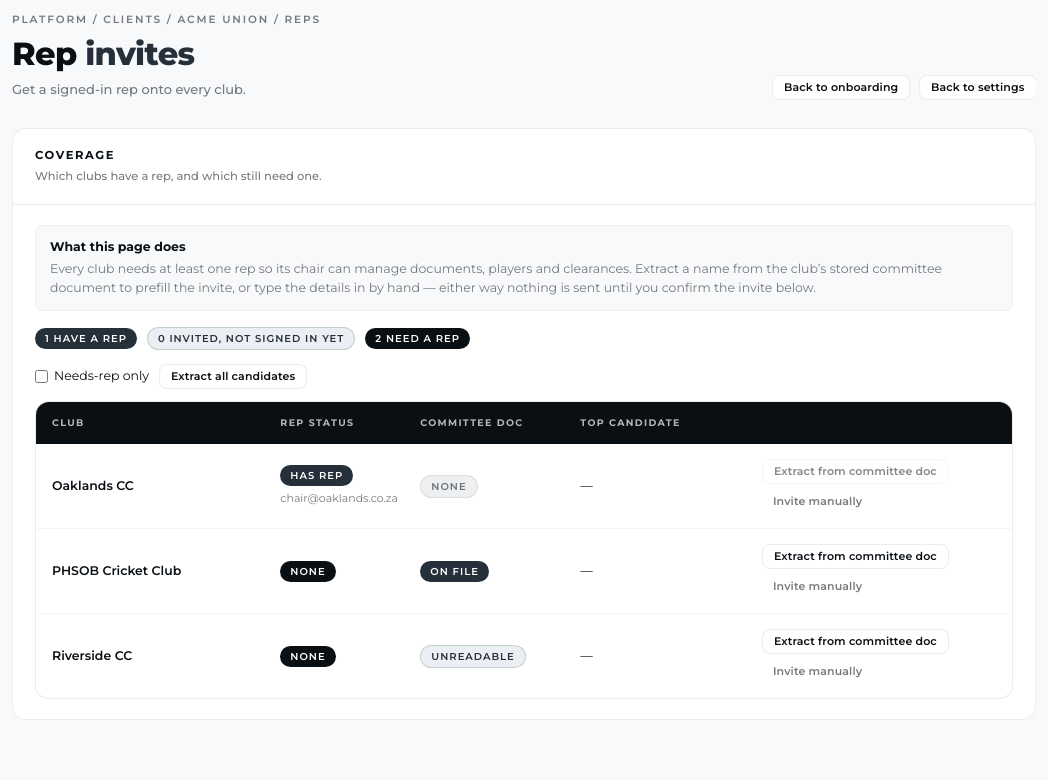
Test: RepsPage › shows None for zero-rep clubs and the needs-rep filter narrows the table
Expected: the heading "Rep invites" is shown, [12,34,194,73]
Expected: the text "None" next to "PHSOB Cricket Club" is shown, [290,564,326,577]
Click the checkbox labelled "Needs-rep only" at (42, 376), box [35,370,48,382]
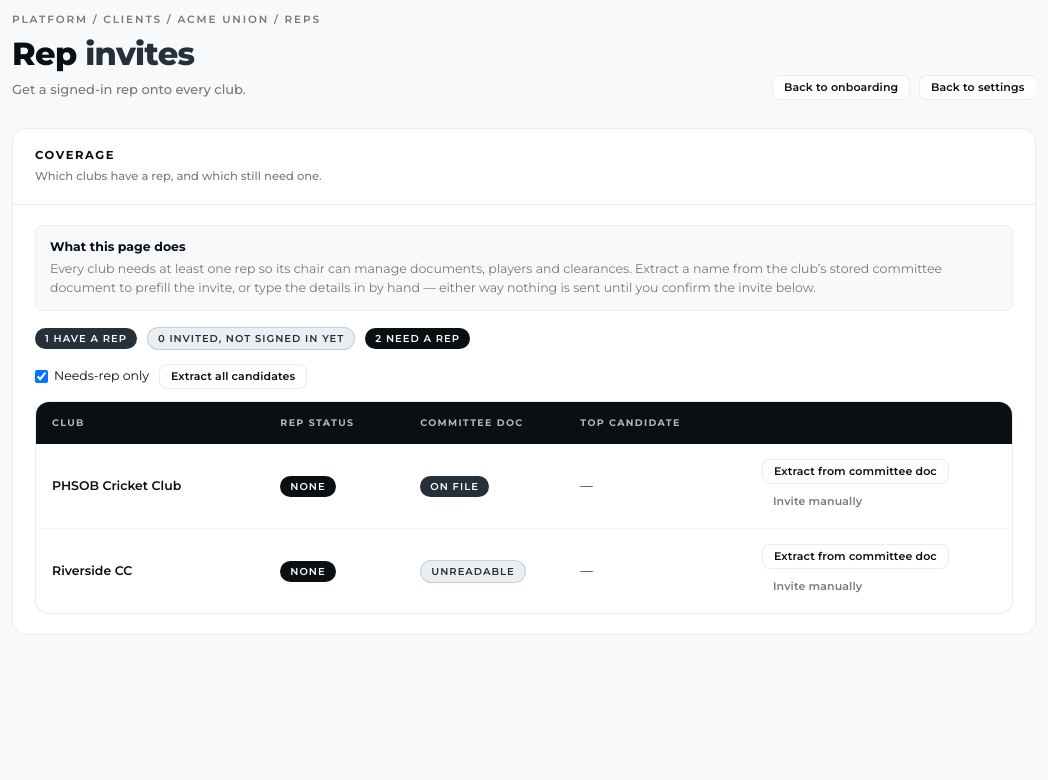
Expected: the text "PHSOB Cricket Club" is shown, [36,444,270,528]
Result: the text "Oaklands CC" is gone
